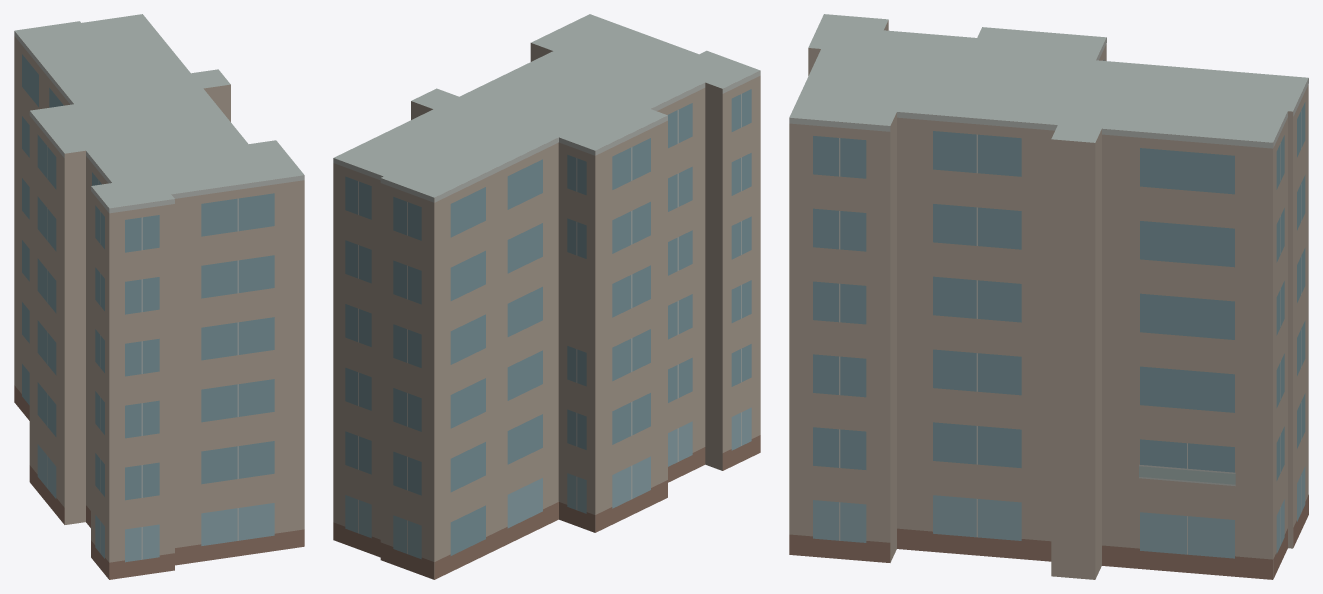
The model's file is survey-upis-32754450.glb.
3 views of the same model, side by side, from view 1: azimuth 30°, elevation 25°; view 2: azimuth 150°, elevation 25°; view 3: azimuth 270°, elevation 25° (orthographic). The views are drawn at different scales.
Parts seen in each view (by area): view 1: survey-upis-32754450.tmp; view 2: survey-upis-32754450.tmp; view 3: survey-upis-32754450.tmp.
Boxes of the visible parts, x1,y1,x2,y2 form: survey-upis-32754450.tmp: (14,14,304,579); survey-upis-32754450.tmp: (333,14,760,579); survey-upis-32754450.tmp: (789,14,1308,579).
Bounding box in the file's own units: 11.58 × 18.3 × 19.73.
